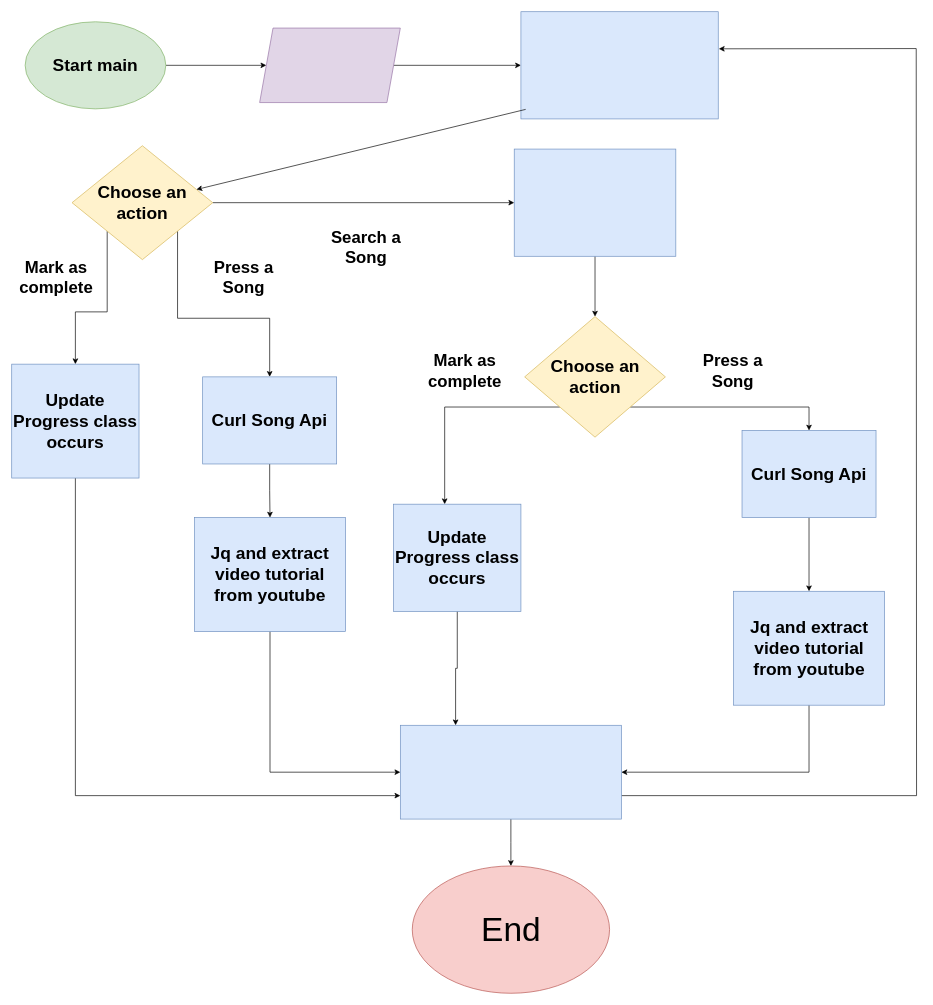
Some shapes in this 933 by 1005 pixel diagram are drawn without their labels. Here are the shapes that lost their labels. From the top down, the centre of each, then its label:
(329,65): Read Songs.csv
(619,65): Display song tutorials, difficulty, and progress bars
(595,202): Display song, tutorial, difficulty, and progress bar
(510,772): Return to Song Library
